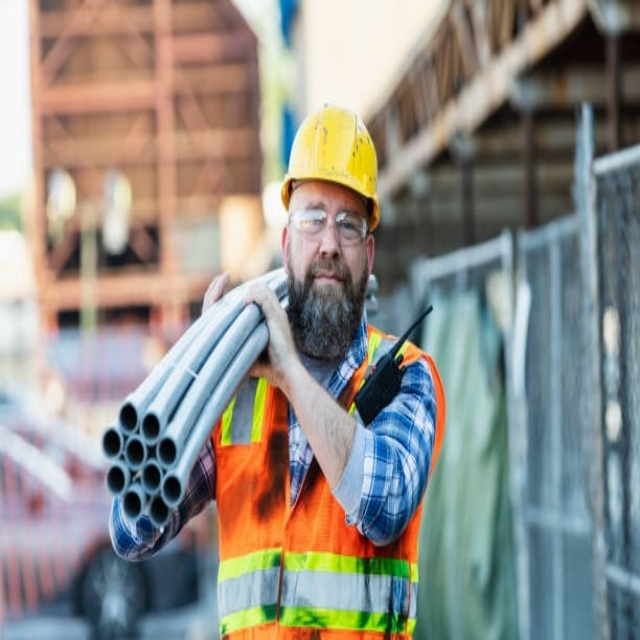Gafas: (289, 206, 371, 244)
Sin_guantes: (226, 270, 301, 384)
Sin_mascara: (305, 255, 353, 310)
